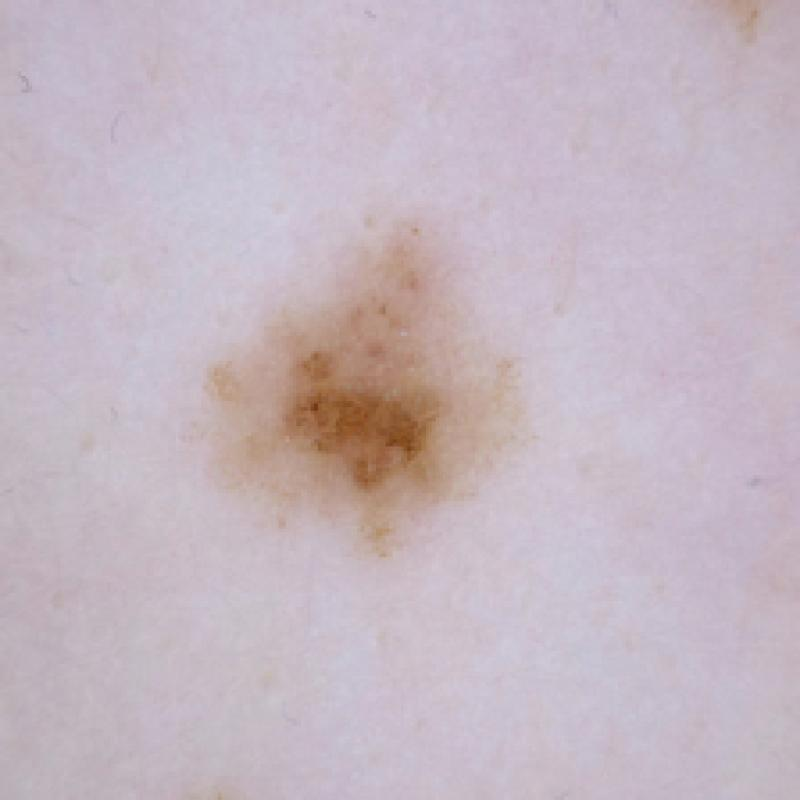benign: (200, 205, 564, 575)
